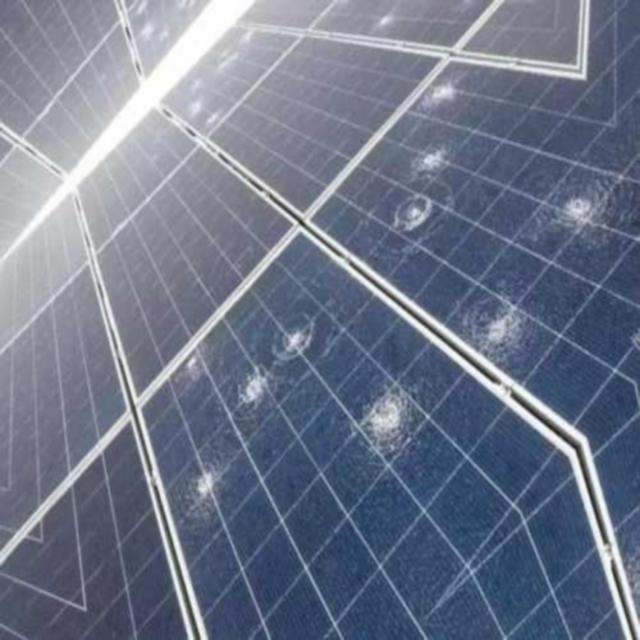cracked: (140, 271, 464, 623), (364, 74, 640, 394), (167, 23, 286, 132), (130, 2, 214, 82)
